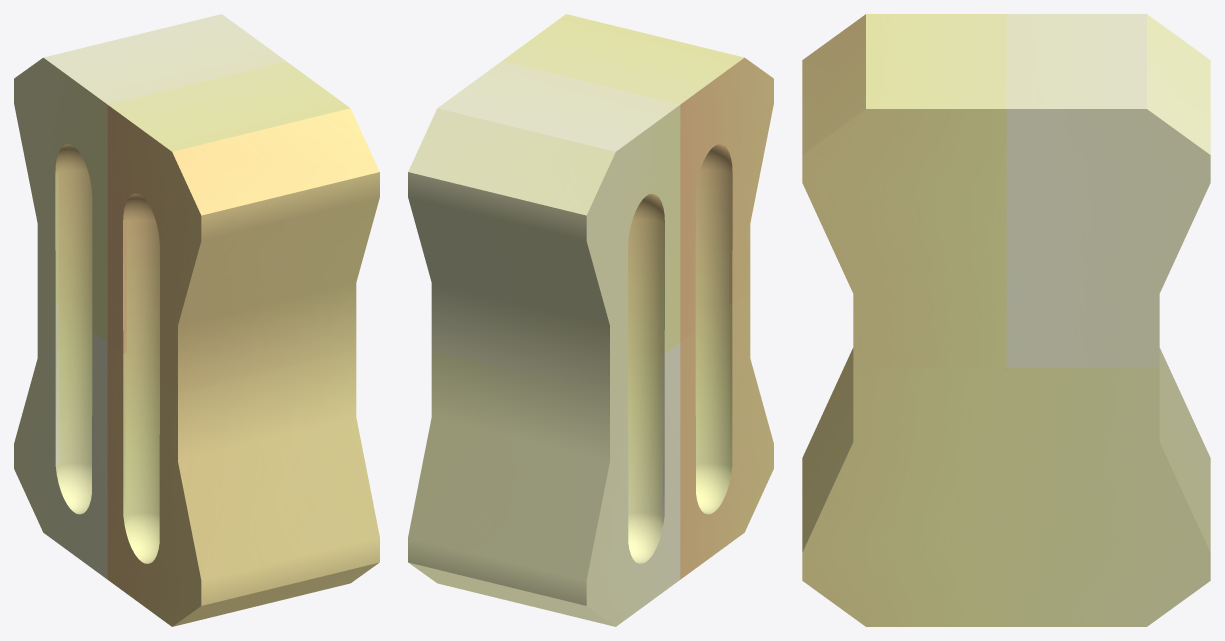
Rendered from Sabão.fbx.
3 views of the same model, side by side, from view 1: azimuth 30°, elevation 25°; view 2: azimuth 150°, elevation 25°; view 3: azimuth 270°, elevation 25° (orthographic). The views are drawn at different scales.
Visible parts, largest first — view 1: Cube; view 2: Cube; view 3: Cube.
Part boxes in pixels (x1,y1,x2,y2): Cube: (14,14,379,626); Cube: (408,14,773,626); Cube: (802,14,1210,626).
Bounding box in the file's own units: 440 × 1120 × 800.
